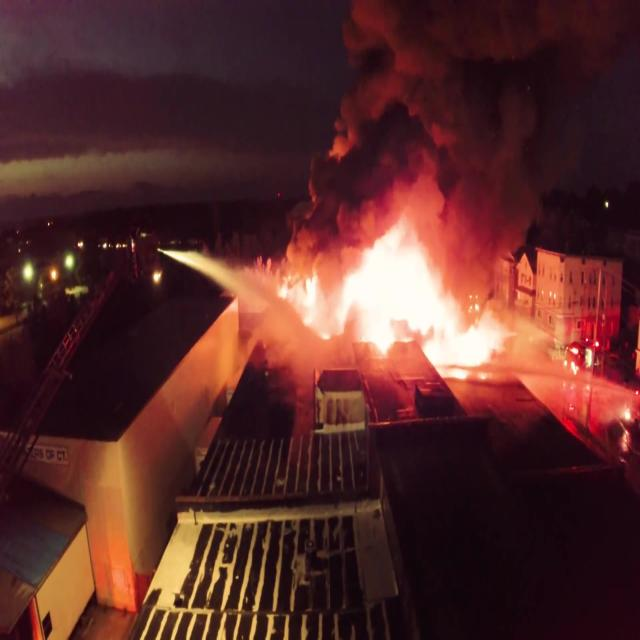fire: (338, 251, 443, 340)
smoke: (361, 11, 545, 222)
